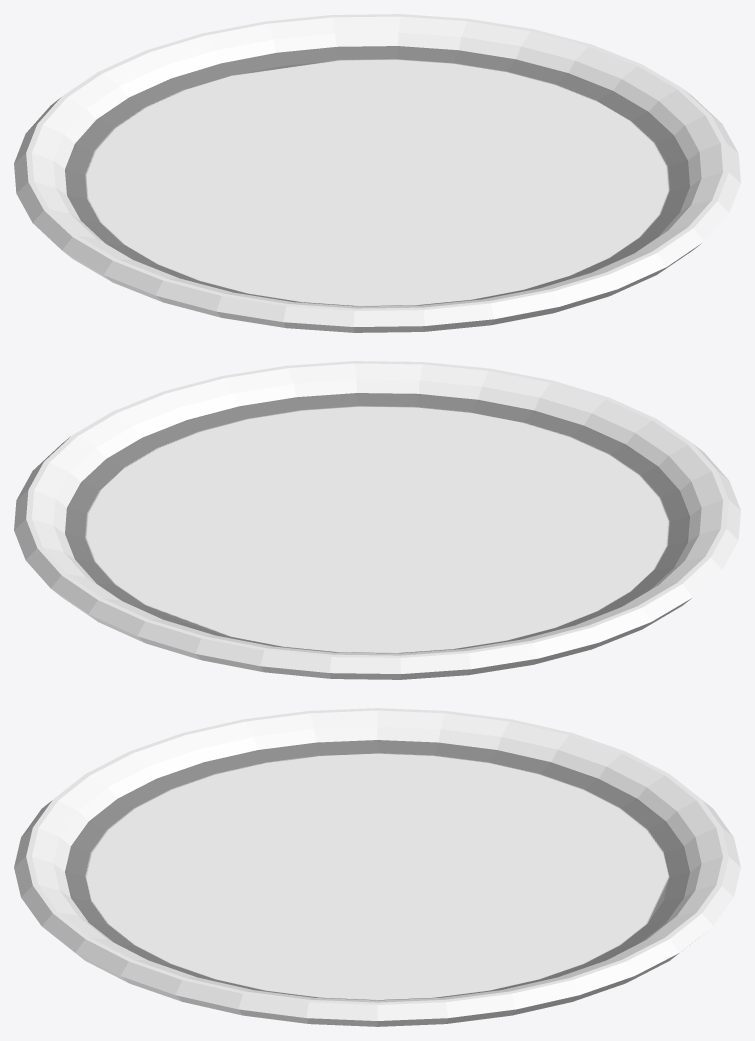
3 views of the same model, one above another, from view 1: azimuth 30°, elevation 25°; view 2: azimuth 150°, elevation 25°; view 3: azimuth 270°, elevation 25° (orthographic).
Parts seen in each view (by area): view 1: Circle; view 2: Circle; view 3: Circle.
Part boxes in pixels (x1,y1,x2,y2): Circle: [14, 14, 740, 332]; Circle: [14, 361, 740, 679]; Circle: [14, 708, 740, 1026].
Size of the model in its own units: 2.95 by 0.1257 by 2.95.
Materials: 1 (1 with a texture image).
